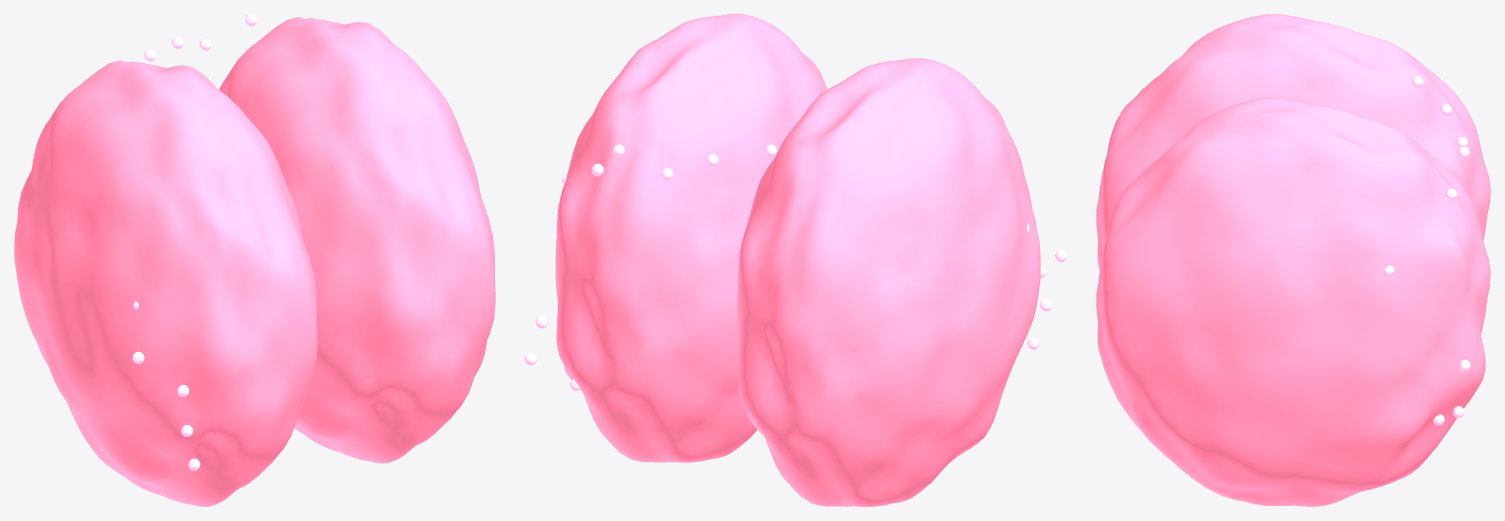
Rendered from brain.glb.
The picture shows the model from 3 angles, left to right: view 1: azimuth 30°, elevation 25°; view 2: azimuth 150°, elevation 25°; view 3: azimuth 270°, elevation 25°; orthographic projection. The views are drawn at different scales.
Parts seen in each view (by area): view 1: Icosphere.001, Icosphere; view 2: Icosphere.001, Icosphere; view 3: Icosphere, Icosphere.001.
Boxes of the visible parts, bbox=[...] form: Icosphere.001: bbox=[14, 60, 317, 506]; Icosphere: bbox=[219, 17, 495, 463]; Icosphere.001: bbox=[737, 58, 1040, 506]; Icosphere: bbox=[555, 14, 827, 462]; Icosphere: bbox=[1096, 97, 1490, 506]; Icosphere.001: bbox=[1096, 14, 1490, 270].
Size of the model in its own units: 2.3 by 2.31 by 2.09.
